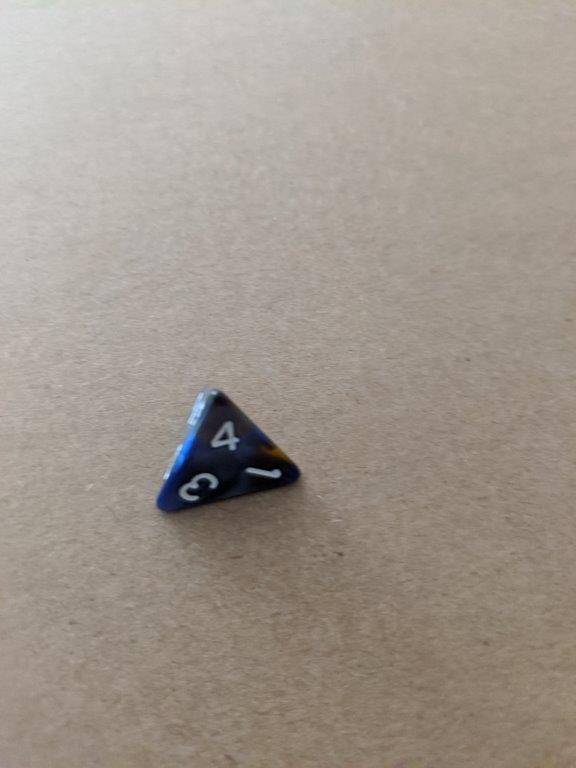d4-4: (155, 384, 304, 517)
